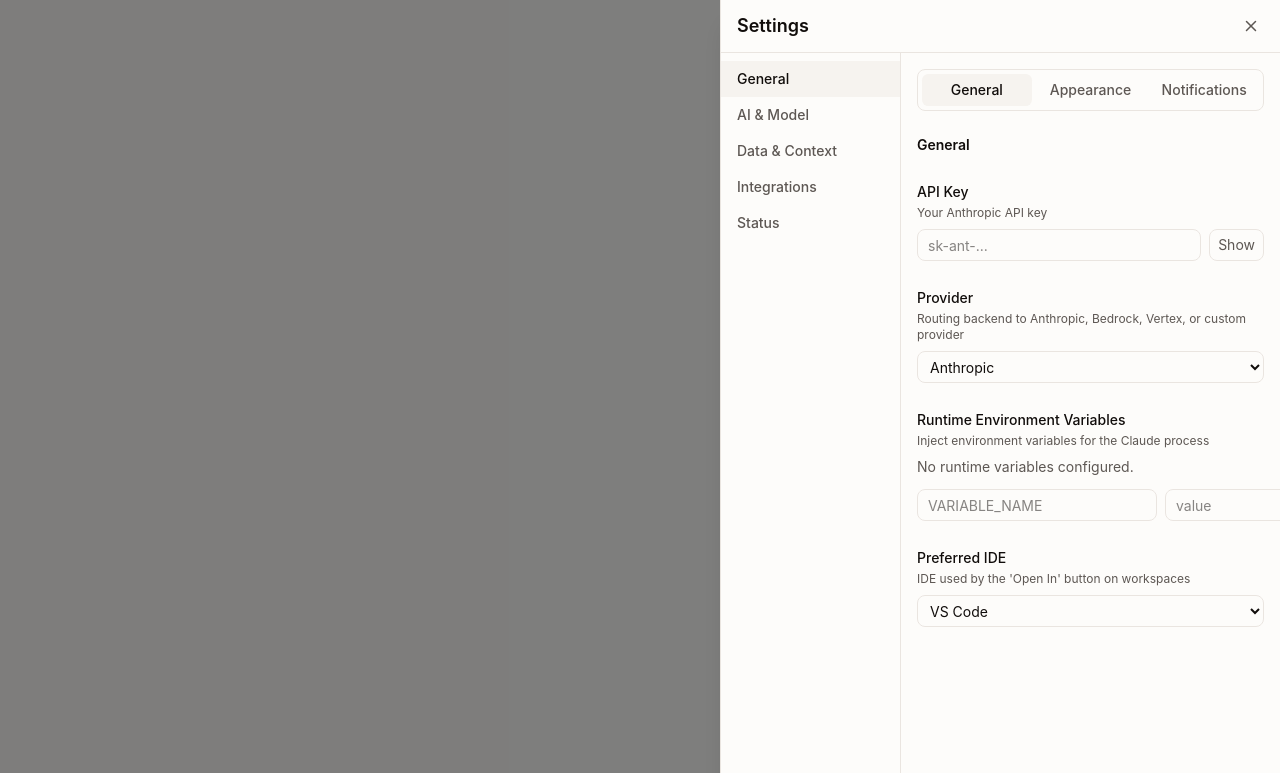
it: SettingsPanel › switches to AI & Model group on click
Click the tab "AI & Model" at (810, 115), box [721,97,900,133]
(page scrolled)
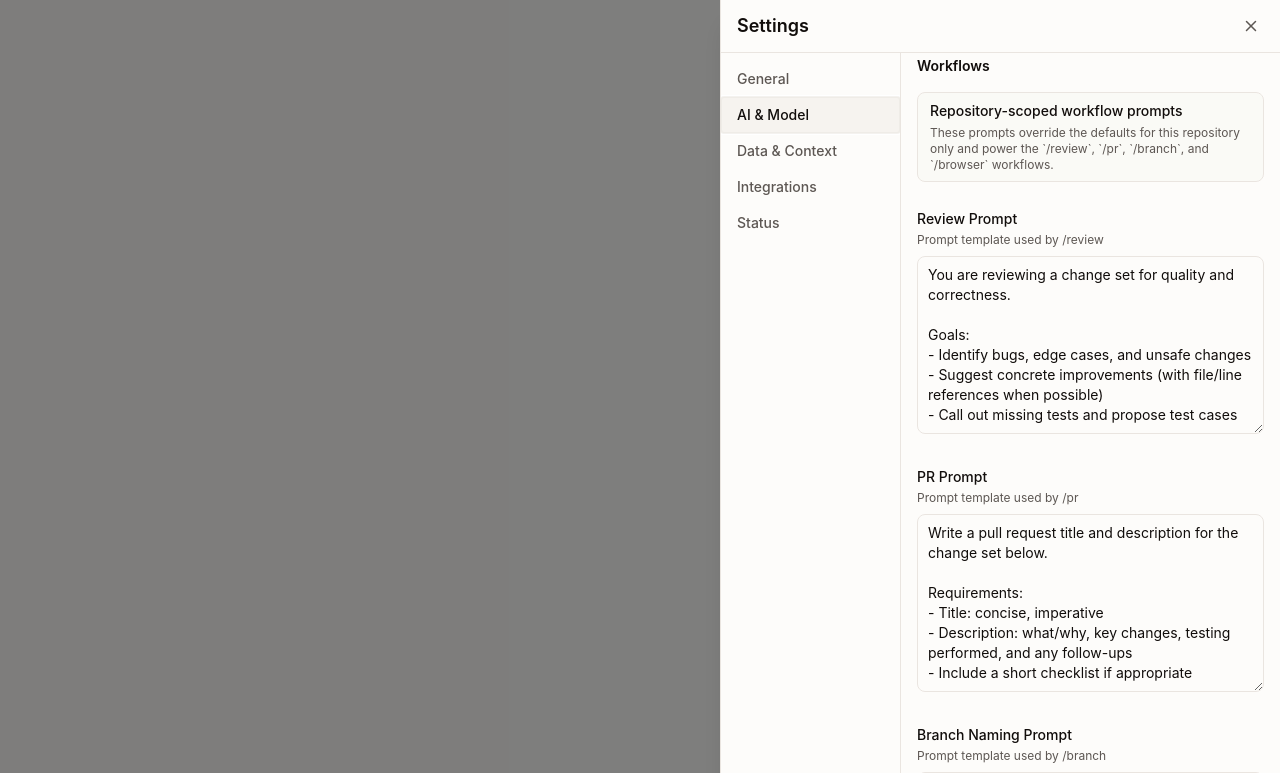
Expected: the text "Review Prompt" is shown, [917,210,1017,227]
Expected: the text "PR Prompt" is shown, [917,468,987,485]
